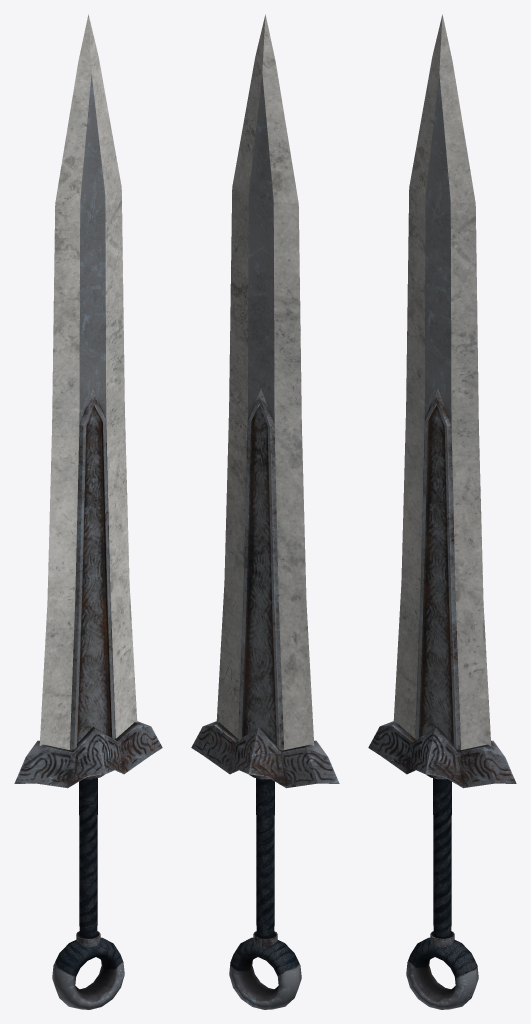
File: Big_Swrd_FBX.FBX
3 views of the same model, side by side, from view 1: azimuth 30°, elevation 25°; view 2: azimuth 150°, elevation 25°; view 3: azimuth 330°, elevation 25° (orthographic).
Parts seen in each view (by area): view 1: Blade, Hilt, pummel, Grip; view 2: Blade, Hilt, pummel, Grip; view 3: Blade, Hilt, pummel, Grip.
Boxes of the visible parts, x1,y1,x2,y2 form: Blade: [39, 14, 137, 750]; Hilt: [14, 721, 162, 788]; pummel: [52, 937, 124, 1009]; Grip: [76, 774, 104, 947]; Blade: [216, 14, 314, 750]; Hilt: [191, 721, 339, 788]; pummel: [229, 937, 301, 1009]; Grip: [249, 774, 277, 947]; Blade: [393, 14, 491, 750]; Hilt: [368, 721, 516, 788]; pummel: [406, 937, 478, 1009]; Grip: [426, 774, 454, 947].
Bounding box in the file's own units: 12.98 × 82.97 × 5.14.
